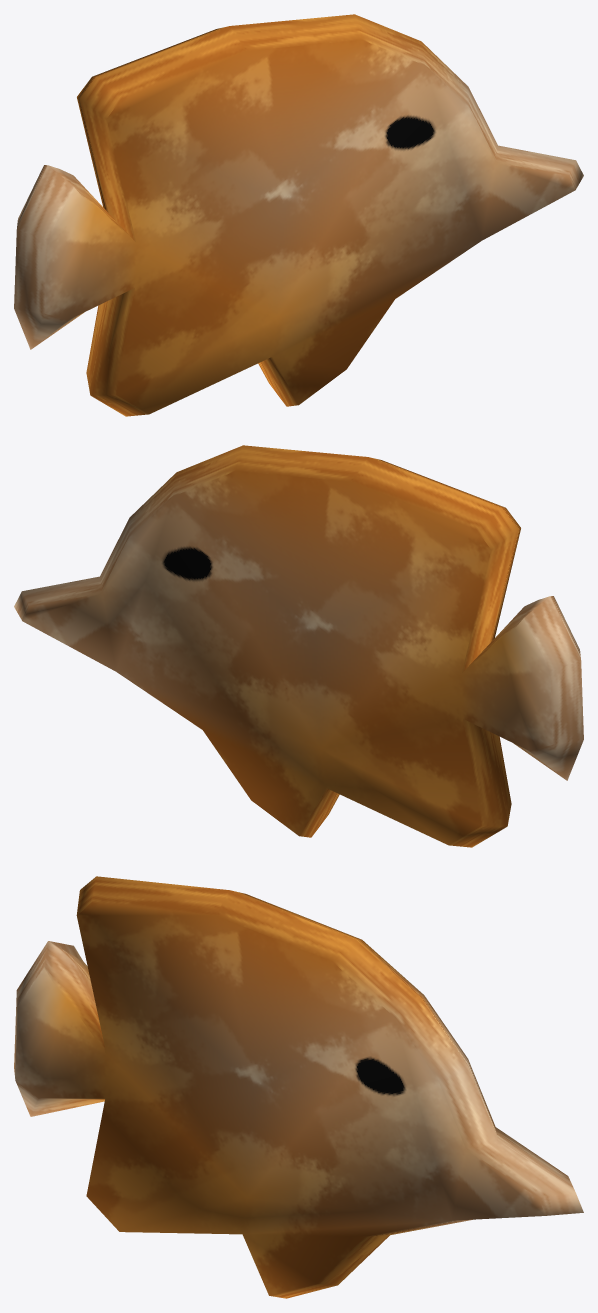
File: Prop_Fish_Butterflyfish.fbx
3 views of the same model, one above another, from view 1: azimuth 30°, elevation 25°; view 2: azimuth 150°, elevation 25°; view 3: azimuth 330°, elevation 25° (orthographic).
Parts seen in each view (by area): view 1: Butterfly Fish; view 2: Butterfly Fish; view 3: Butterfly Fish.
Part boxes in pixels (box(x1,y1,x2,y2)): Butterfly Fish: box(14, 14, 583, 416); Butterfly Fish: box(14, 445, 583, 847); Butterfly Fish: box(14, 876, 583, 1298).
Size of the model in its own units: 22.11 by 14.63 by 2.
1 material, 1 textured.
